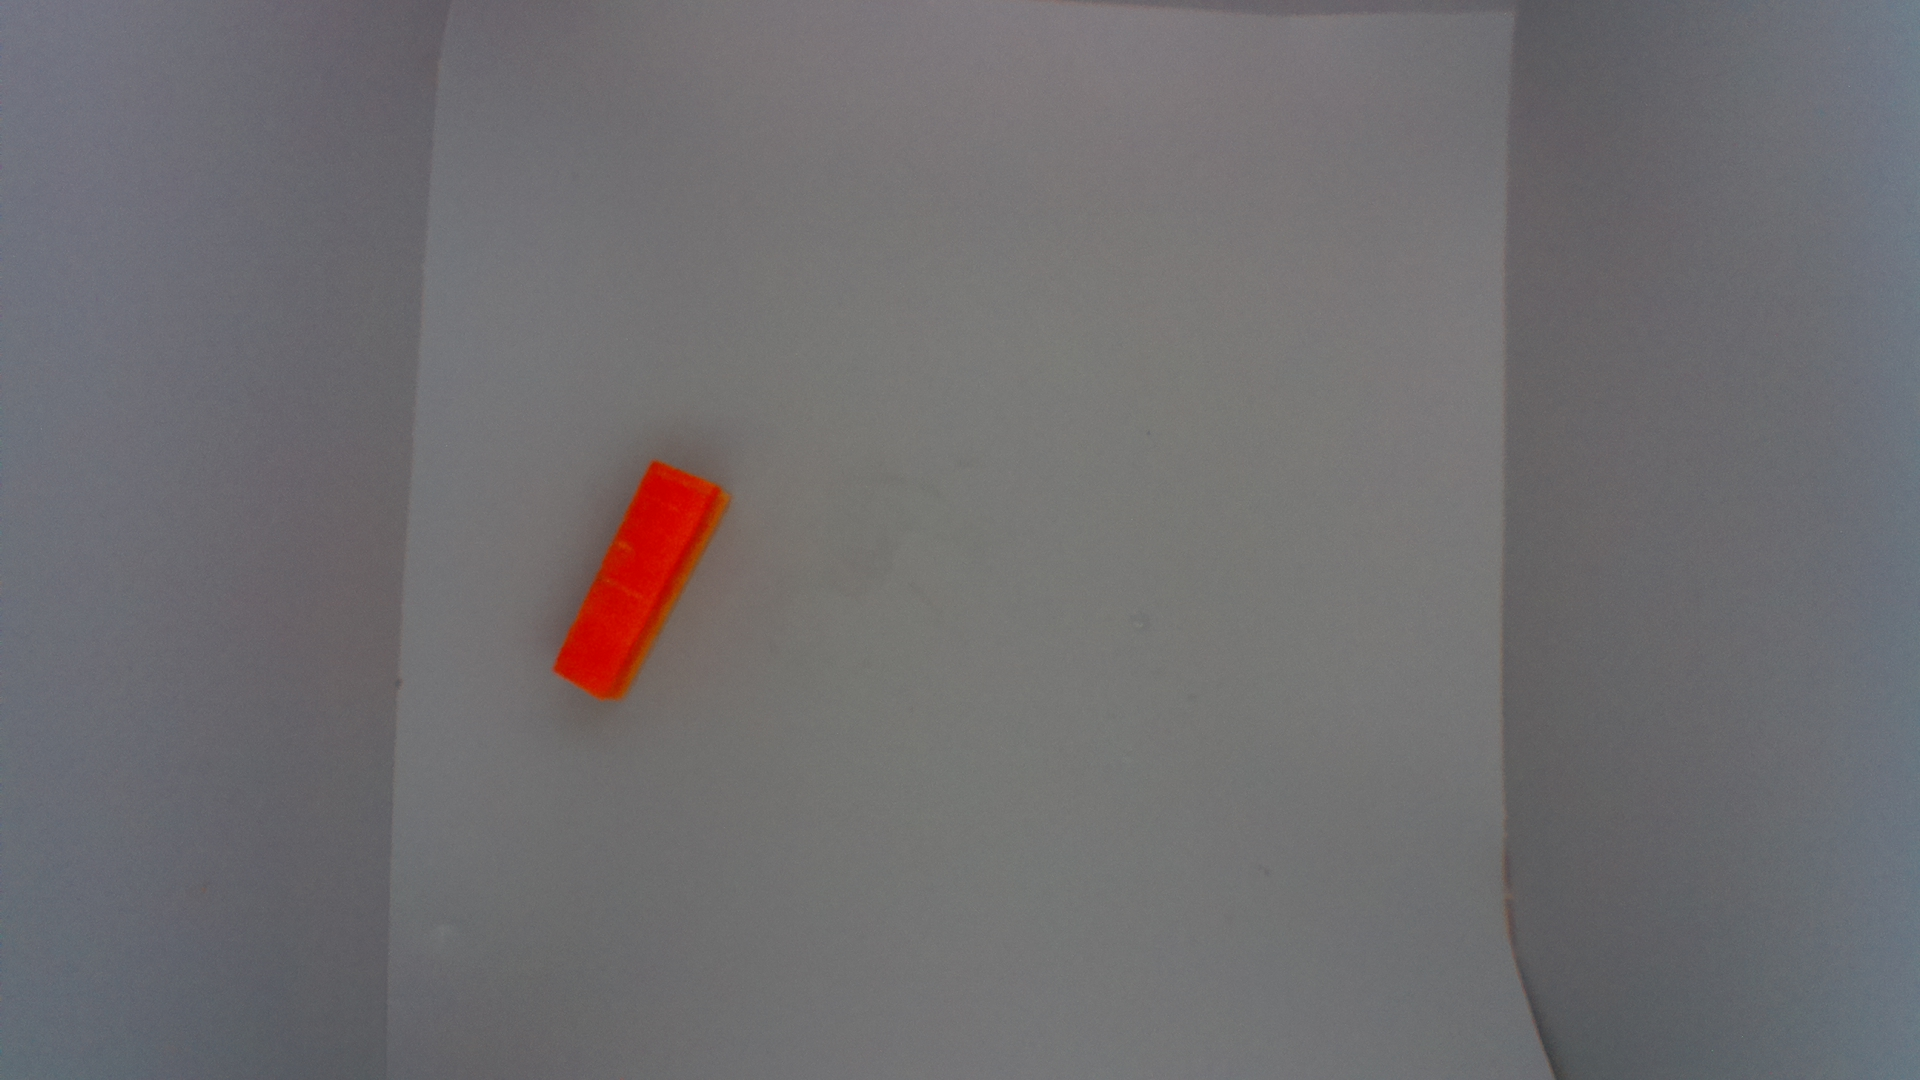carrot: (555, 458, 737, 700)
